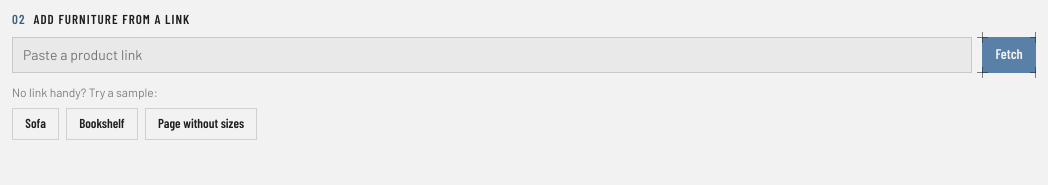
Test case: AddFurnitureSection › shows the unavailable message (never the raw error) when the provider fails
What coordinates should you click on to do the following:
click the button "Sofa"
I would click on:
 (36, 124)
Its box is [12,108,59,140].
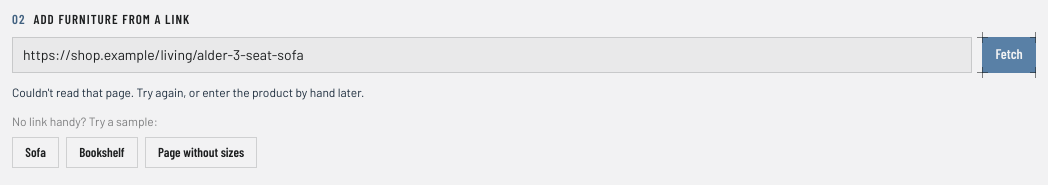
Expected: the button "Sofa" is shown, [12,137,59,168]
Result: the message reads "Couldn't read that page. Try again, or enter the product by hand later." at [12,85,364,99]
